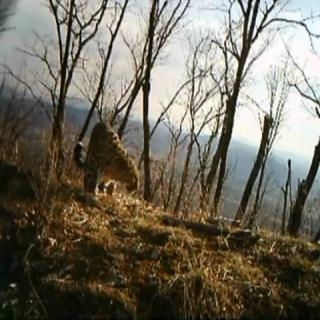Leopard: (62, 92, 162, 220)
